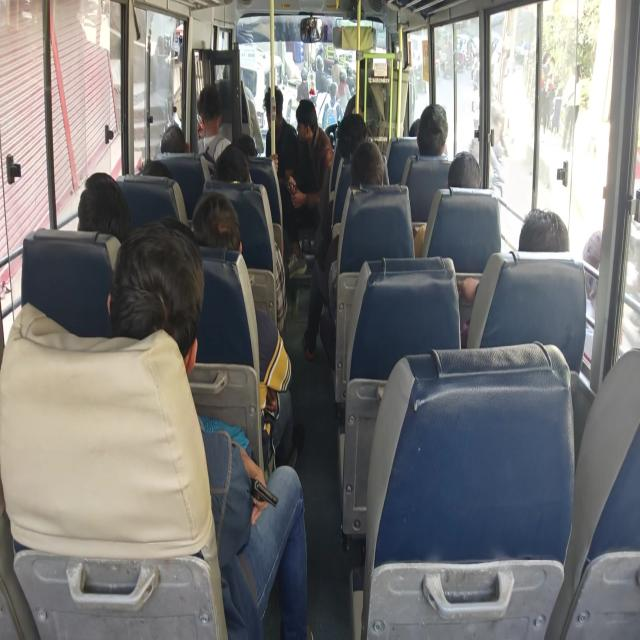person: (112, 232, 199, 360), (510, 192, 573, 277), (341, 137, 395, 200), (85, 163, 131, 233), (200, 202, 253, 262), (217, 149, 263, 196), (451, 149, 486, 198), (420, 100, 446, 164), (138, 162, 176, 193), (156, 121, 193, 148), (345, 109, 374, 142), (264, 78, 286, 121), (199, 90, 219, 137), (302, 93, 323, 136), (228, 130, 256, 150), (407, 112, 423, 136)
